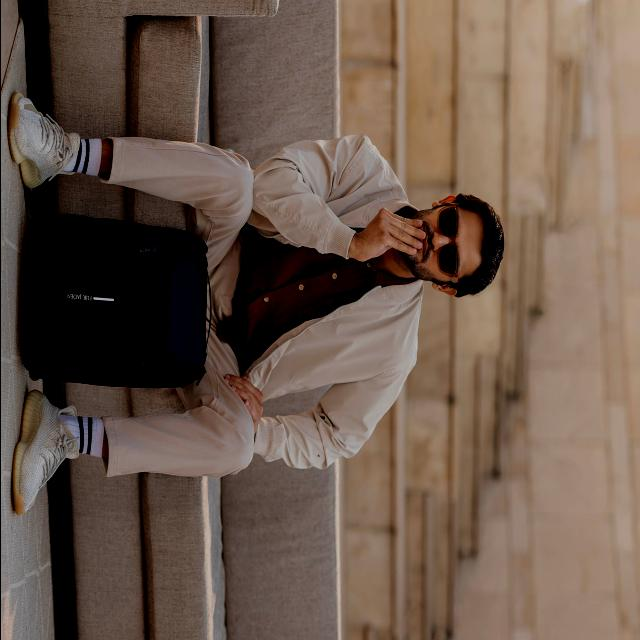backpack: (21, 212, 214, 390)
